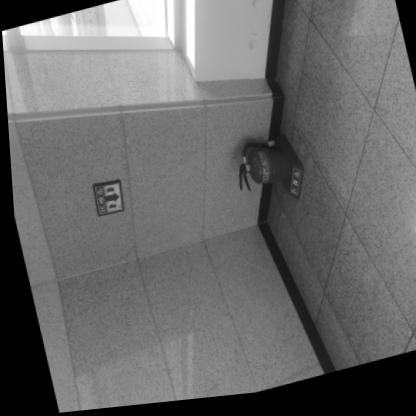FE: (226, 137, 305, 218)
